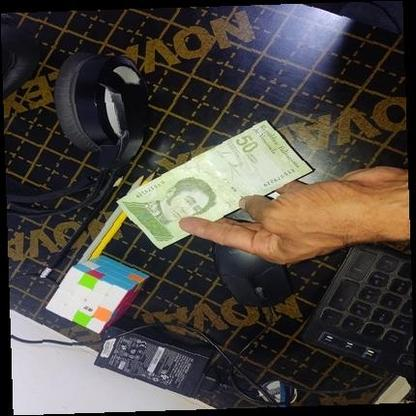vef_front: (115, 118, 315, 251)
